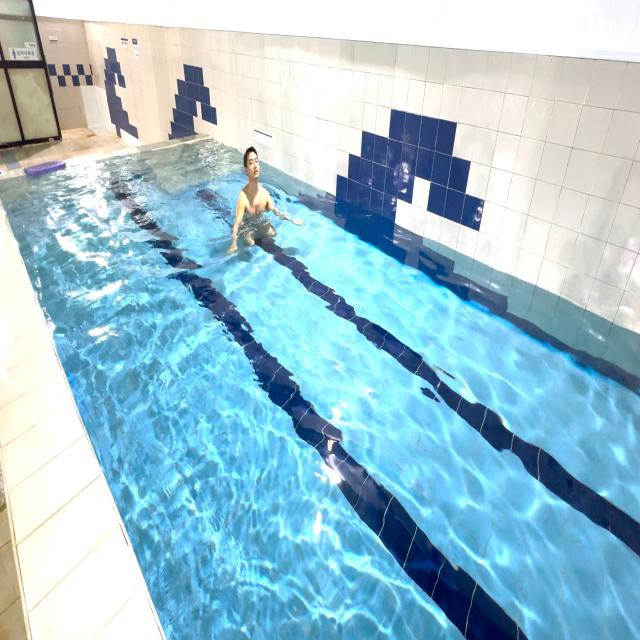Swimming: (224, 142, 303, 264)
